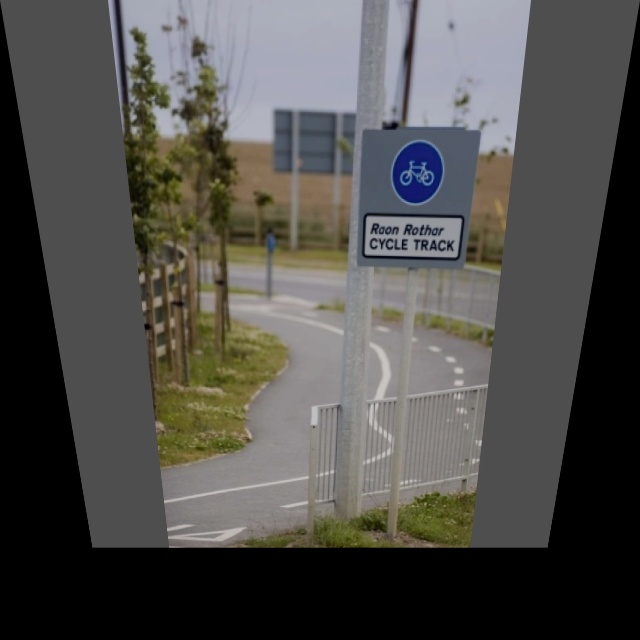Compulsory_Cycle_Track: (383, 136, 451, 211)
